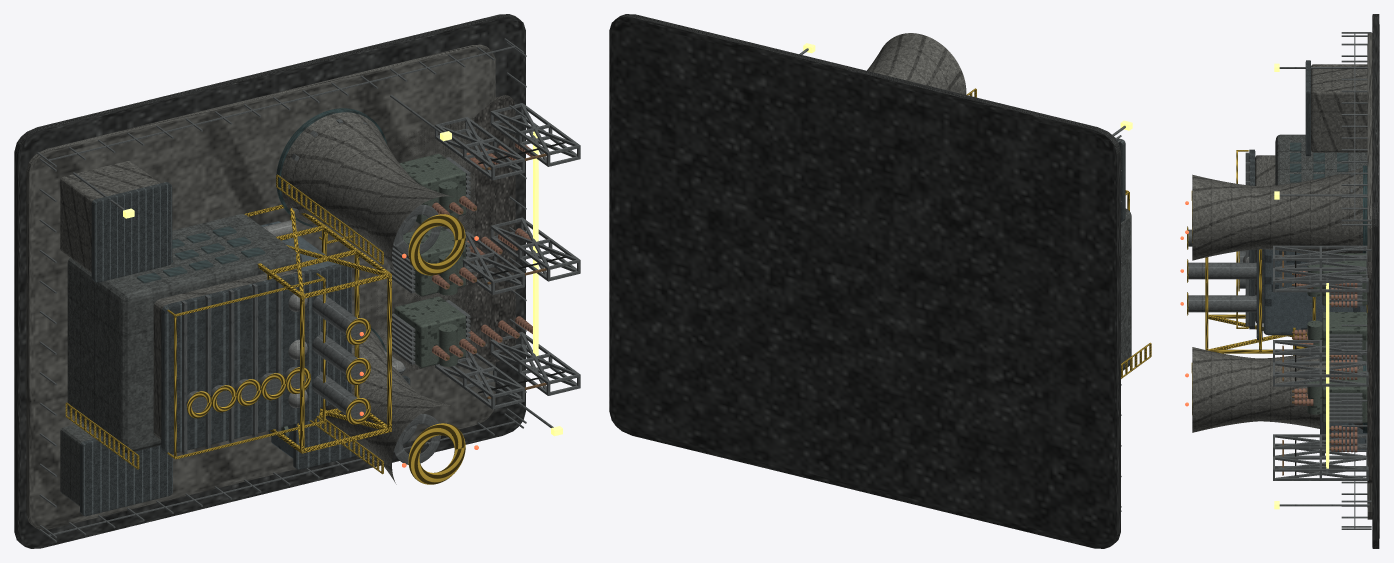
Rendered from b-02-power-station-lod0.glb.
3 renders of one model, left to right at view 1: azimuth 30°, elevation 25°; view 2: azimuth 150°, elevation 25°; view 3: azimuth 270°, elevation 25°, orthographic. The views are drawn at different scales.
Visible parts, largest first — view 1: inner_concrete_pad, foundation, turbine_hall, turbine_roof, cooling_tower_north, switchyard_pad, control_roof, service_roof, cooling_tower_south, control_block, transformer_1, turbine_hall_upper (+22 smaller); view 2: foundation, cooling_tower_north, turbine_hall; view 3: cooling_tower_north, cooling_tower_south, control_block, foundation, boiler_house, turbine_hall, inner_concrete_pad, switchyard_pad, transformer_2, boiler_stack_0, boiler_stack_1, transformer_1 (+36 smaller).
Boxes of the visible parts, <box> form: inner_concrete_pad: <box>26,44,495,529</box>; foundation: <box>14,14,525,548</box>; turbine_hall: <box>67,214,301,452</box>; turbine_roof: <box>161,269,319,454</box>; cooling_tower_north: <box>277,109,453,273</box>; switchyard_pad: <box>359,95,515,373</box>; control_roof: <box>91,182,172,282</box>; service_roof: <box>80,436,172,516</box>; cooling_tower_south: <box>320,329,452,484</box>; control_block: <box>60,161,160,272</box>; transformer_1: <box>394,296,465,367</box>; turbine_hall_upper: <box>153,268,302,439</box>; foundation: <box>609,14,1120,548</box>; cooling_tower_north: <box>867,33,966,94</box>; turbine_hall: <box>1121,208,1131,370</box>; cooling_tower_north: <box>1192,166,1366,260</box>; cooling_tower_south: <box>1192,347,1366,432</box>; control_block: <box>1311,64,1367,152</box>; foundation: <box>1372,14,1379,548</box>; boiler_house: <box>1263,249,1366,335</box>; turbine_hall: <box>1275,134,1367,185</box>; inner_concrete_pad: <box>1367,33,1372,519</box>; switchyard_pad: <box>1367,262,1372,483</box>; transformer_2: <box>1322,312,1367,361</box>; boiler_stack_0: <box>1188,295,1256,312</box>; boiler_stack_1: <box>1188,262,1256,279</box>; transformer_1: <box>1322,371,1367,422</box>.
Size of what is drawn, in the model's own units: 16 by 12.6 by 6.6.
Materials: 18 (18 with a texture image).
